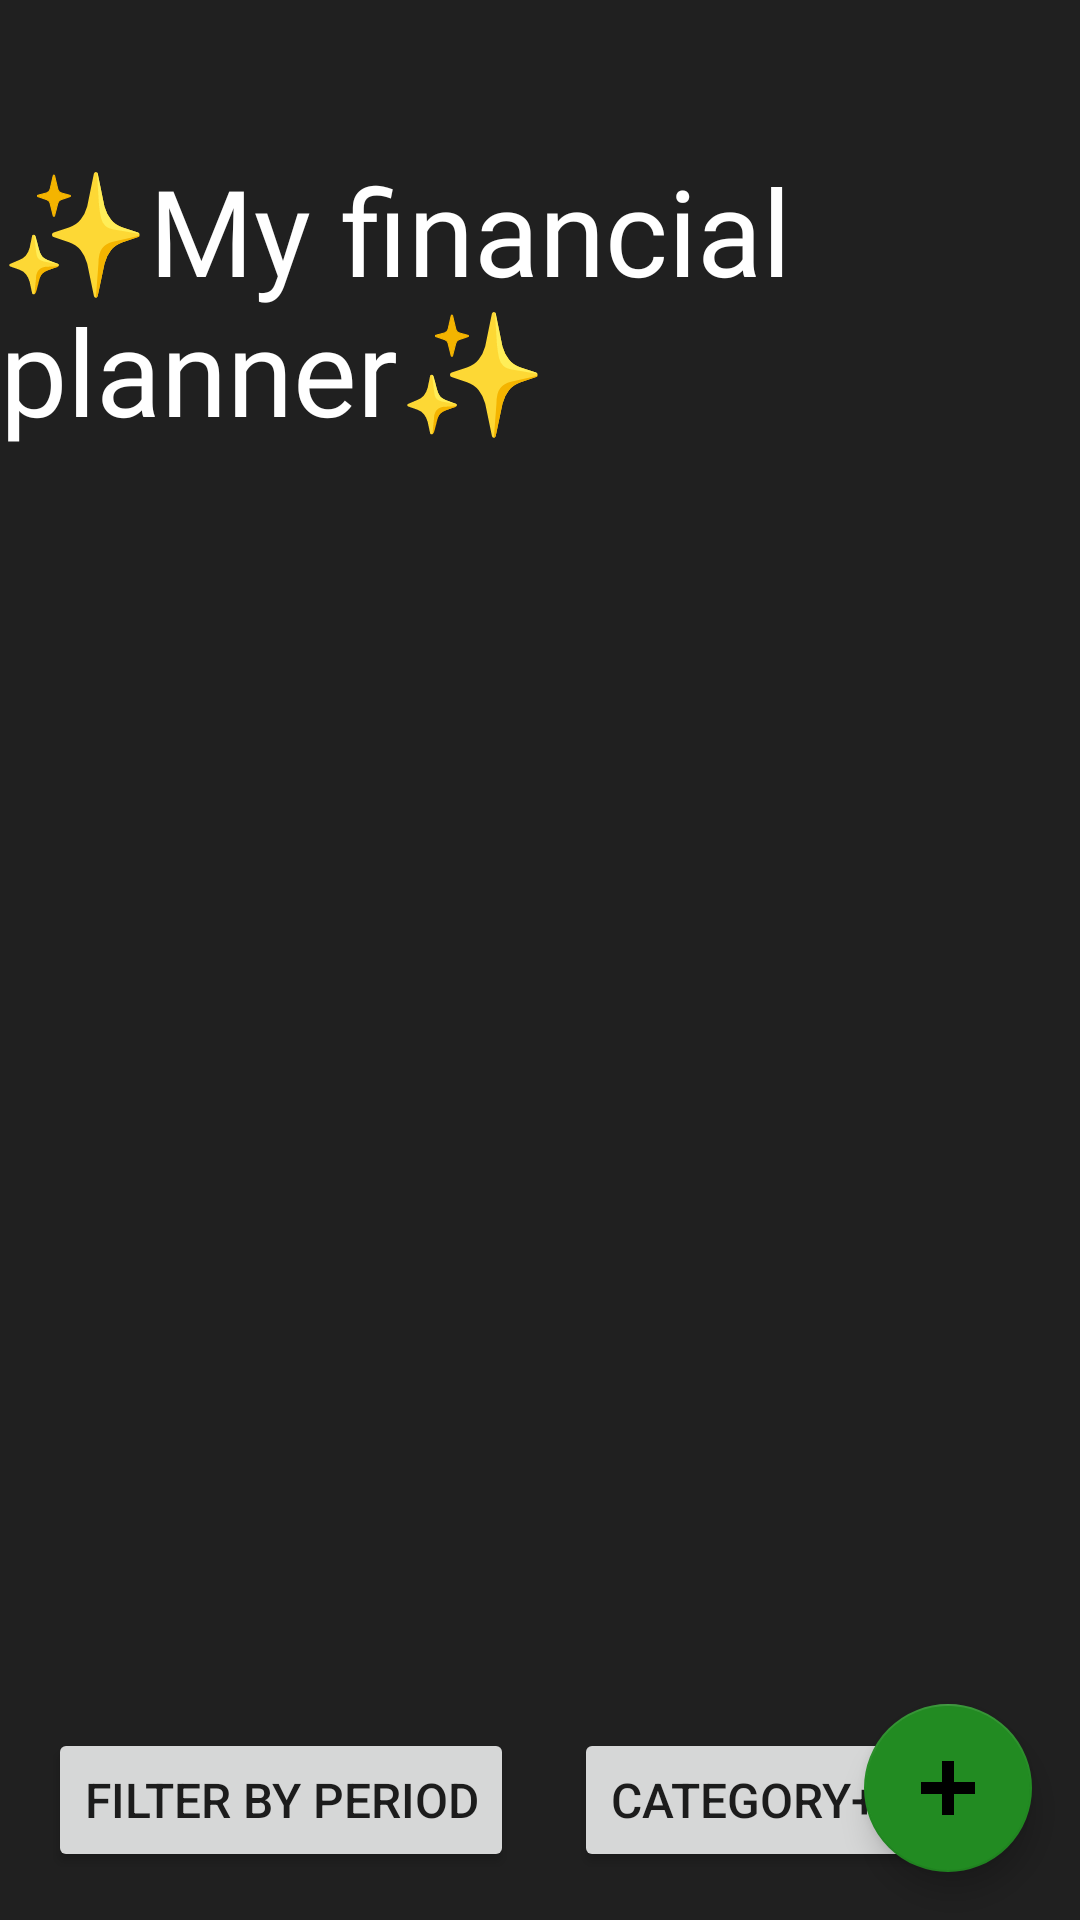

Screen size 1080px x 1920px. Icon name, then its center in pixels as (x,y):
Add Item: (948,1788)
